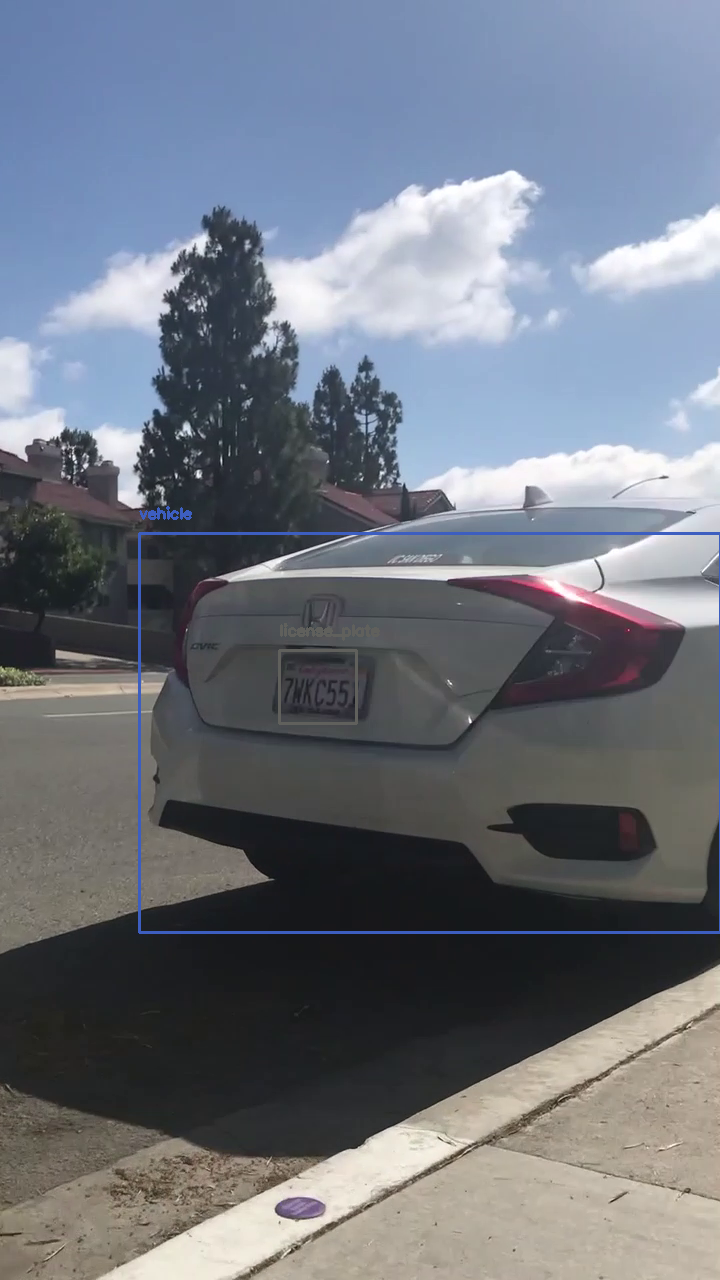license_plate: (279, 650, 356, 723)
vehicle: (139, 533, 720, 932)
